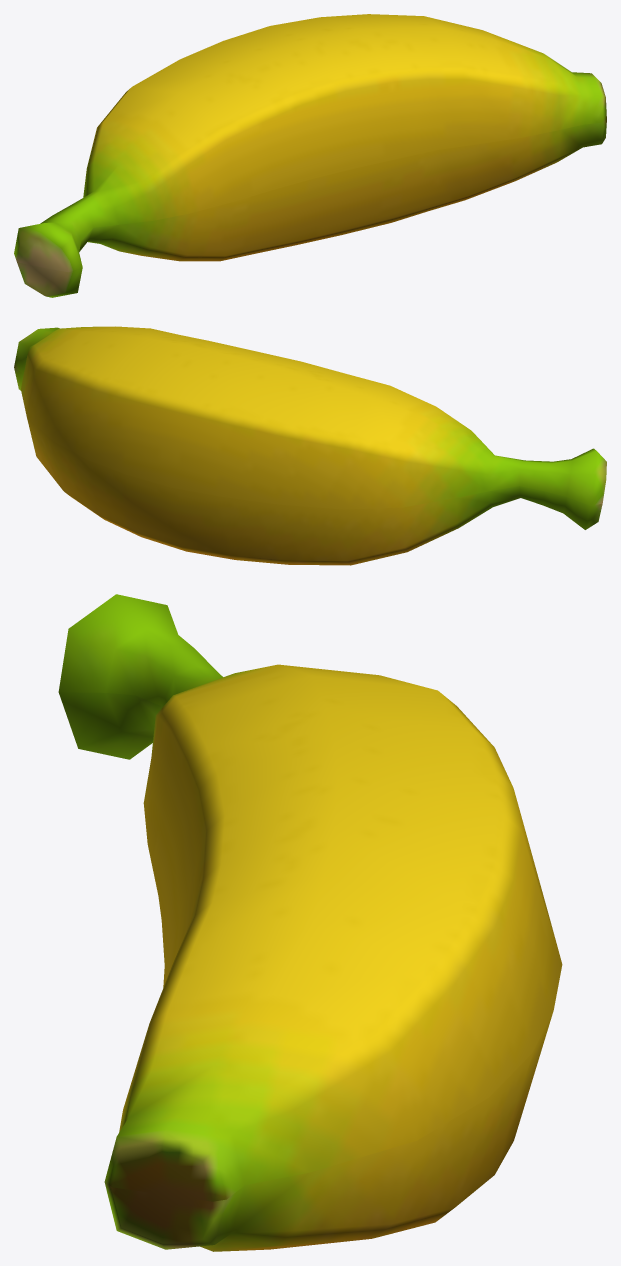
The model's file is platanoG.glb.
The picture shows the model from 3 angles, top to bottom: view 1: azimuth 30°, elevation 25°; view 2: azimuth 150°, elevation 25°; view 3: azimuth 270°, elevation 25°; orthographic projection. The views are drawn at different scales.
Parts seen in each view (by area): view 1: Banana; view 2: Banana; view 3: Banana.
Part boxes in pixels (left/top/right/bottom): Banana: left=14, top=14, right=606, bottom=297; Banana: left=14, top=326, right=606, bottom=565; Banana: left=58, top=594, right=562, bottom=1251.
Size of the model in its own units: 23.27 by 7.11 by 8.85.
Materials: 1 (1 with a texture image).
